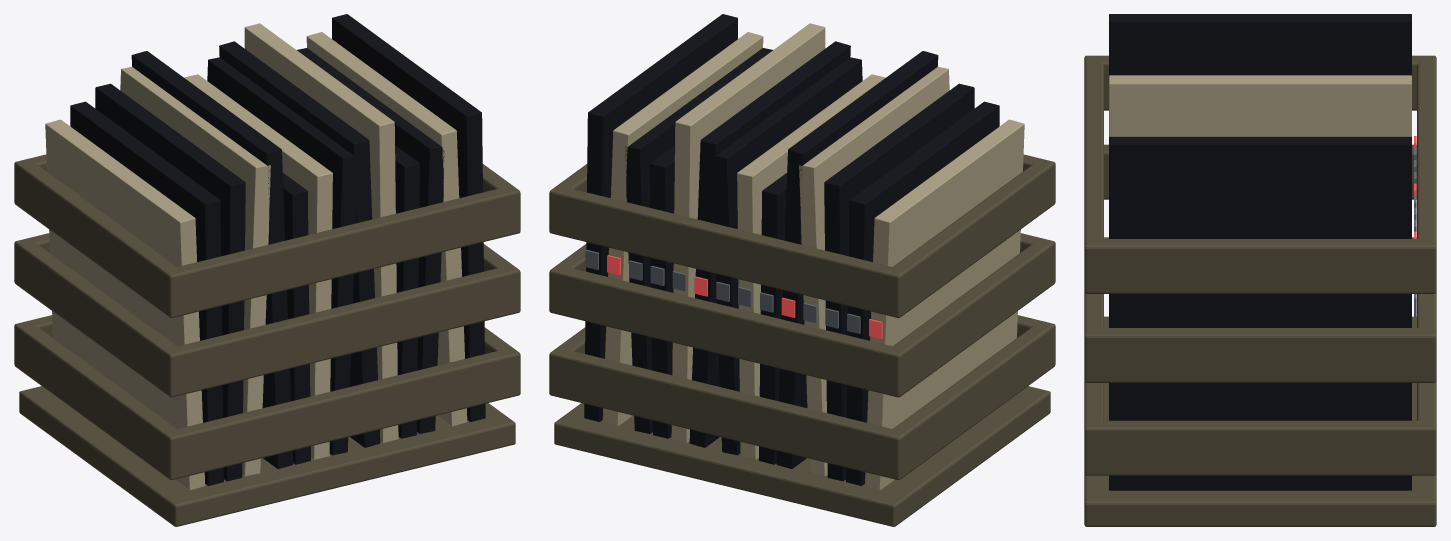
Rendered from record_crate_full.glb.
The picture shows the model from 3 angles, left to right: view 1: azimuth 30°, elevation 25°; view 2: azimuth 150°, elevation 25°; view 3: azimuth 270°, elevation 25°; orthographic projection. The views are drawn at different scales.
Parts seen in each view (by area): view 1: record_crate_full; view 2: record_crate_full; view 3: record_crate_full.
Boxes of the visible parts, x1,y1,x2,y2 form: record_crate_full: (14, 14, 520, 526); record_crate_full: (549, 14, 1055, 526); record_crate_full: (1084, 14, 1436, 526).
Bounding box in the file's own units: 0.555 × 0.5173 × 0.43.
